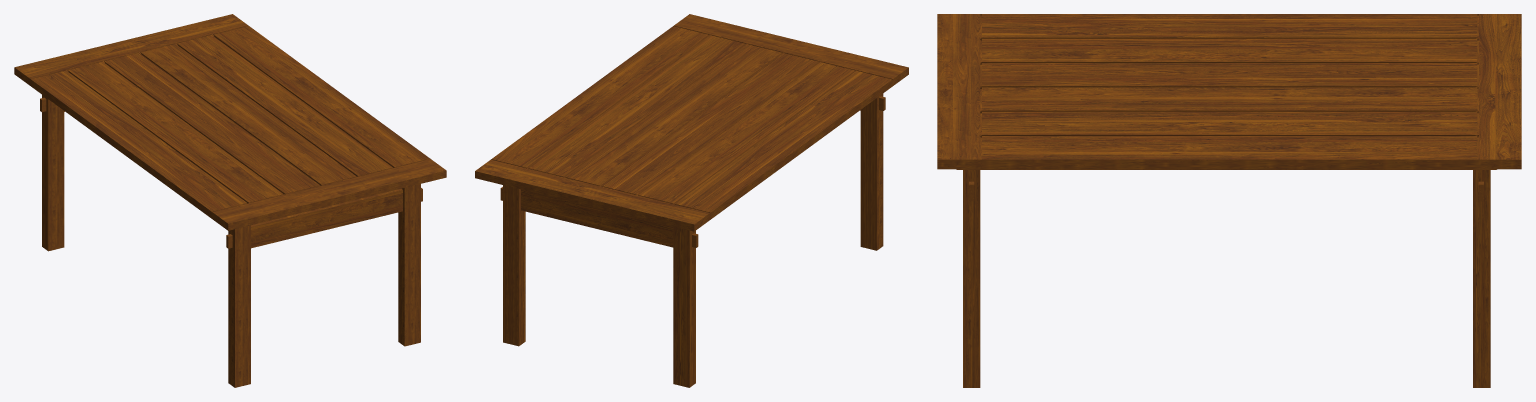
File: Renata-Big-Recta-Dining-Table.glb
3 views of the same model, side by side, from view 1: azimuth 30°, elevation 25°; view 2: azimuth 150°, elevation 25°; view 3: azimuth 270°, elevation 25° (orthographic). The views are drawn at different scales.
Visible parts, largest first — view 1: Cube.013, Cube.006, Cube.003, Cube.002, Cube.005; view 2: Cube.013, Cube.005, Cube.004, Cube.003, Cube.007; view 3: Cube.013, Cube.004, Cube.002, Cube.017.
Part boxes in pixels (x1=…): Cube.013: x1=14, y1=14, x2=446, y2=230; Cube.006: x1=251, y1=188, x2=402, y2=248; Cube.003: x1=228, y1=225, x2=250, y2=387; Cube.002: x1=398, y1=184, x2=420, y2=346; Cube.005: x1=42, y1=95, x2=64, y2=251; Cube.013: x1=475, y1=14, x2=908, y2=231; Cube.005: x1=673, y1=226, x2=695, y2=387; Cube.004: x1=503, y1=185, x2=525, y2=346; Cube.003: x1=860, y1=93, x2=883, y2=250; Cube.007: x1=521, y1=189, x2=673, y2=247; Cube.013: x1=937, y1=14, x2=1521, y2=169; Cube.004: x1=1473, y1=170, x2=1490, y2=387; Cube.002: x1=963, y1=170, x2=980, y2=387; Cube.017: x1=957, y1=169, x2=1496, y2=169.
Size of the model in its own units: 0.5856 by 0.4484 by 0.993.
Materials: 1 (1 with a texture image).
